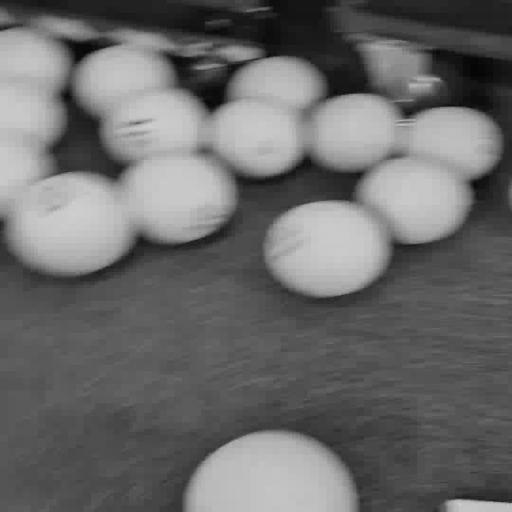fuel: (183, 430, 357, 511), (5, 172, 137, 277), (264, 200, 393, 298), (119, 154, 237, 245), (355, 156, 473, 245), (100, 88, 209, 163), (203, 100, 305, 178), (72, 44, 177, 117), (401, 107, 503, 180), (307, 94, 401, 172), (225, 56, 327, 111), (0, 27, 73, 92), (0, 81, 67, 148), (0, 139, 54, 221)
